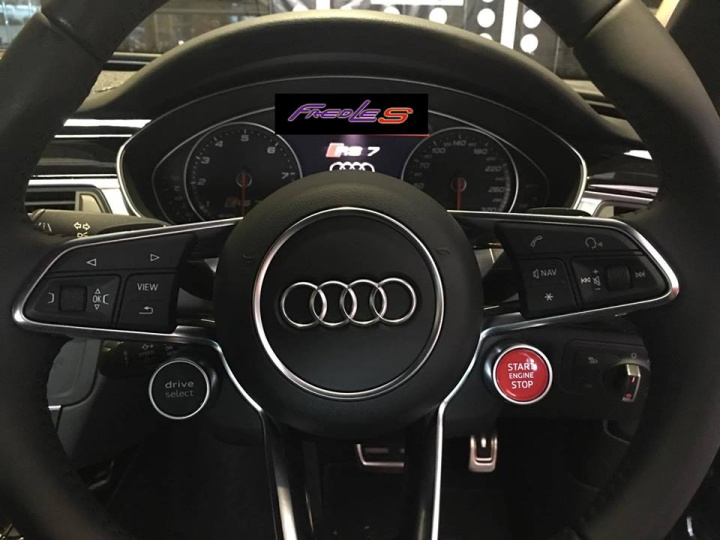audi: (277, 277, 422, 337)
